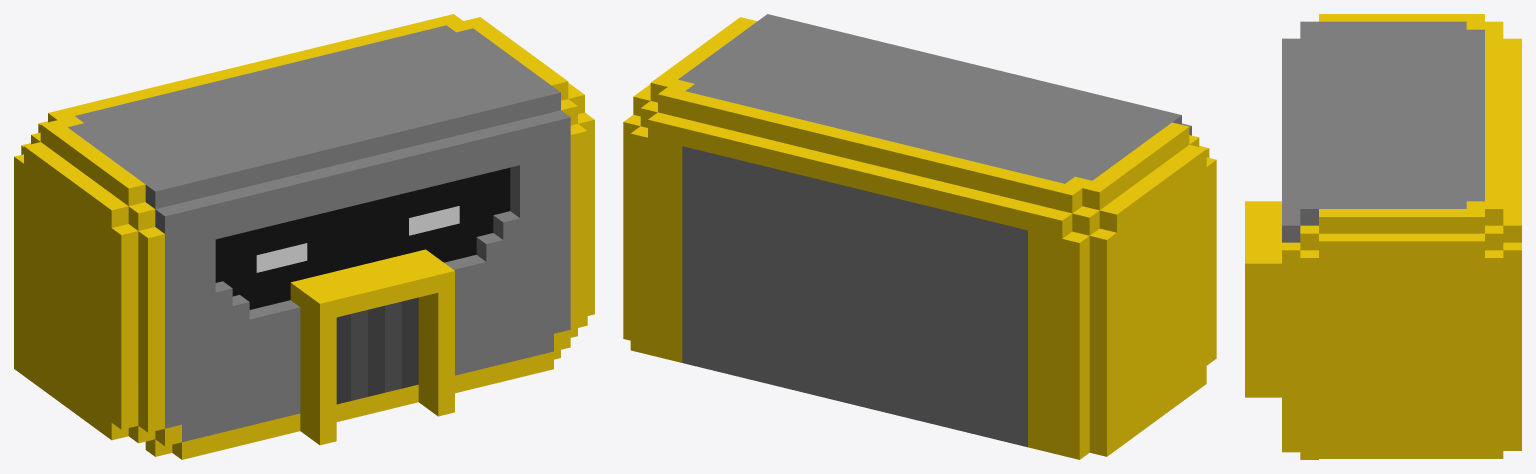
File: RbtHead.obj
3 renders of one model, left to right at view 1: azimuth 30°, elevation 25°; view 2: azimuth 150°, elevation 25°; view 3: azimuth 270°, elevation 25°, orthographic. The views are drawn at different scales.
Bounding box in the file's own units: 28 × 15 × 15.
1 material, 1 textured.
